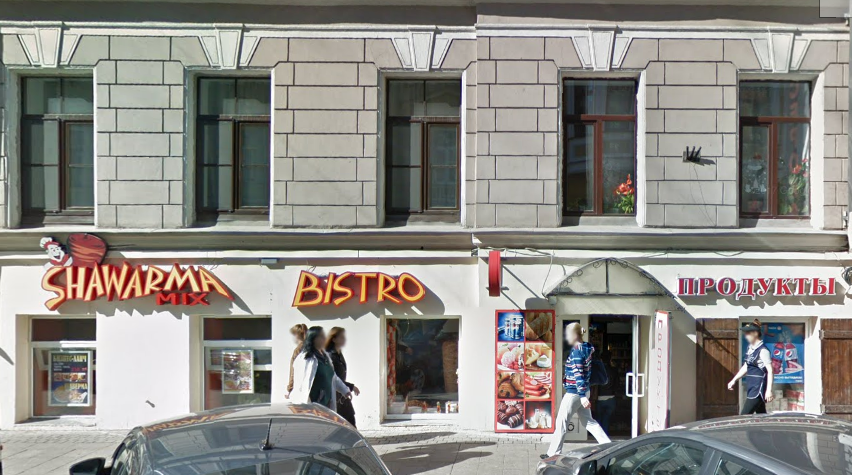cantilever: (479, 244, 514, 299)
door: (553, 313, 648, 439)
signboard: (36, 231, 242, 317), (292, 264, 433, 316), (672, 266, 836, 301)
window: (379, 74, 461, 218), (559, 76, 640, 216), (191, 76, 271, 217), (19, 72, 96, 218), (738, 76, 806, 220), (379, 316, 457, 420), (27, 317, 97, 412), (201, 318, 270, 414)
